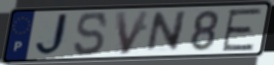8: (189, 9, 221, 53)
E: (219, 7, 264, 53)
J: (34, 12, 74, 59)
N: (143, 9, 189, 54)
S: (73, 11, 110, 58)
V: (113, 9, 152, 57)
